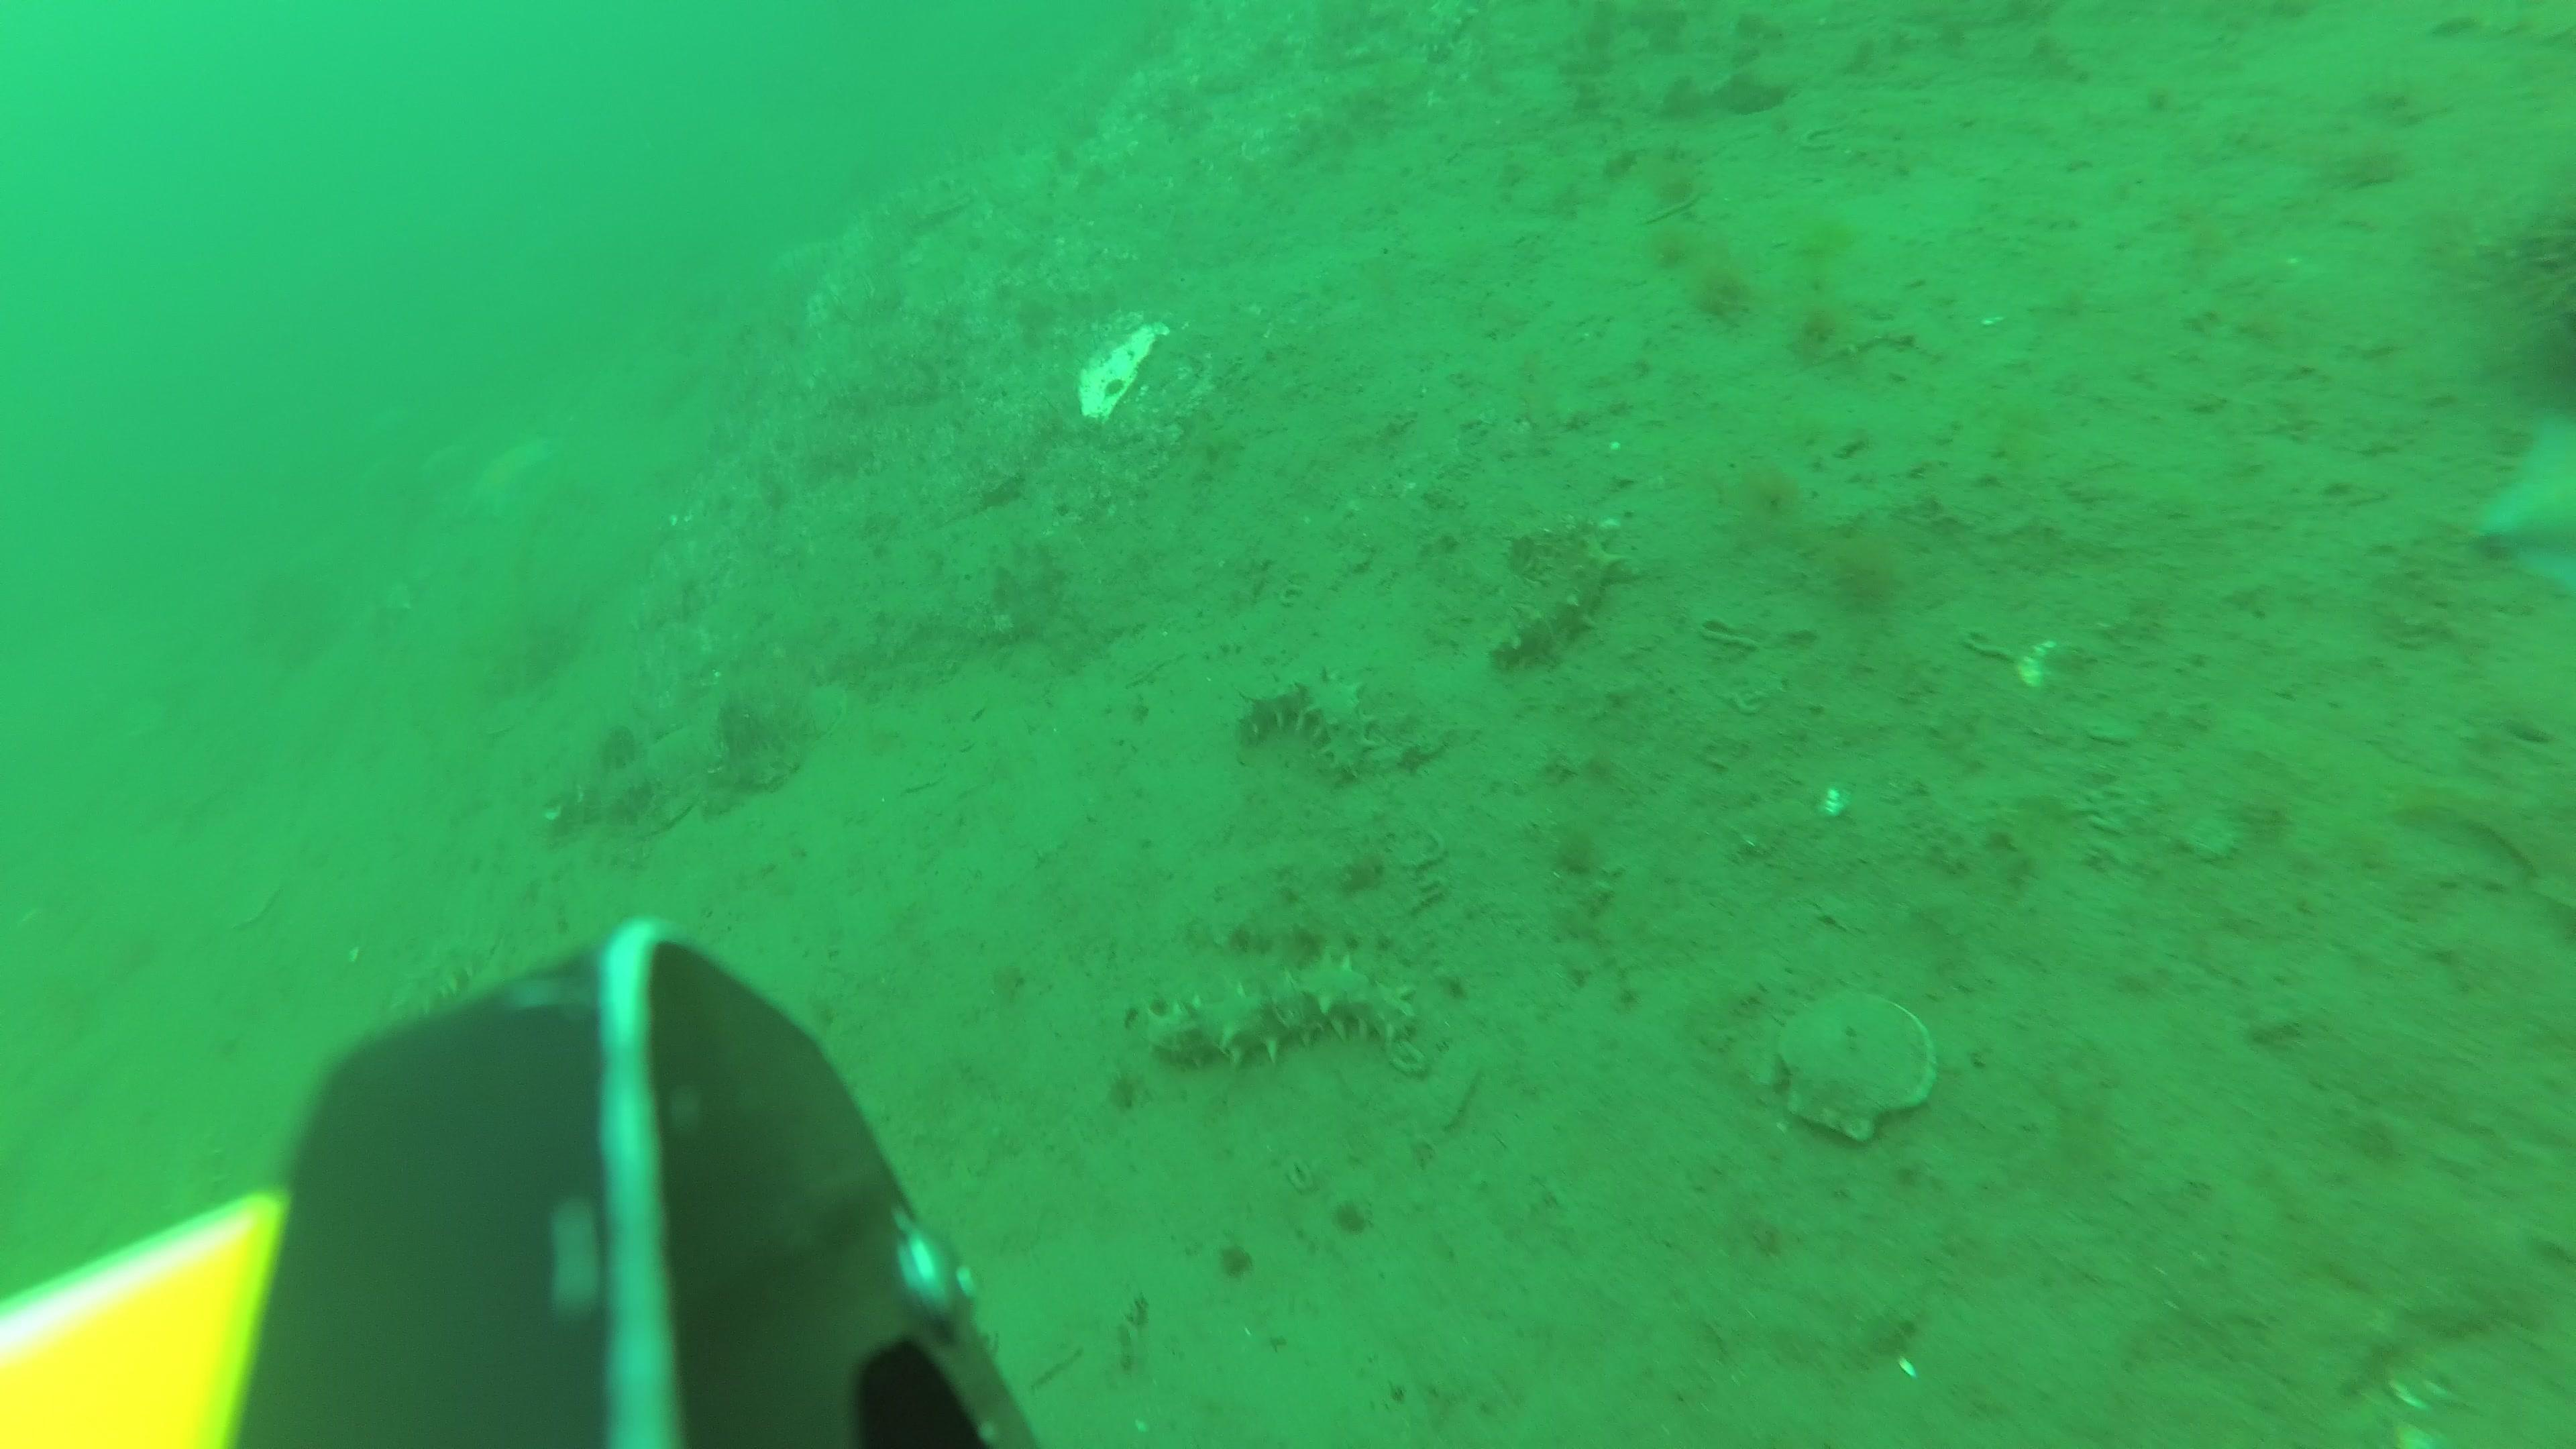holothurian: (1148, 947, 1415, 1067), (1491, 527, 1621, 671), (1244, 667, 1378, 786), (387, 929, 487, 1037), (173, 1143, 223, 1286)
scallop: (1782, 998, 1943, 1138)
starfish: (2484, 395, 2576, 594), (471, 430, 561, 524)
